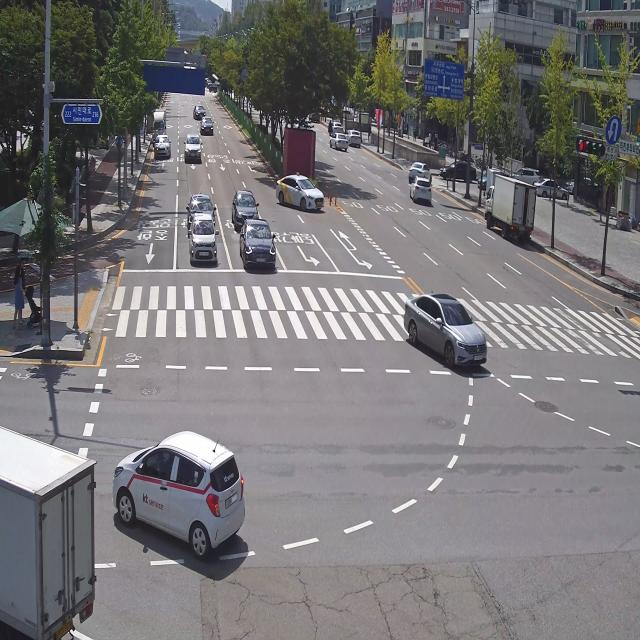Car: (104, 417, 253, 581), (392, 285, 494, 401), (235, 212, 289, 282), (271, 160, 328, 222), (180, 212, 224, 274), (402, 175, 438, 221), (185, 190, 218, 238), (230, 187, 262, 234), (532, 171, 570, 206), (182, 130, 207, 172), (151, 128, 172, 175), (440, 156, 476, 182), (405, 160, 435, 186), (326, 129, 354, 156), (508, 166, 540, 187), (190, 99, 209, 123), (199, 112, 215, 136), (344, 127, 362, 148), (327, 118, 345, 136), (475, 166, 488, 188), (563, 174, 575, 193)
Truck: (0, 415, 106, 640), (481, 158, 543, 266), (149, 110, 168, 145)
